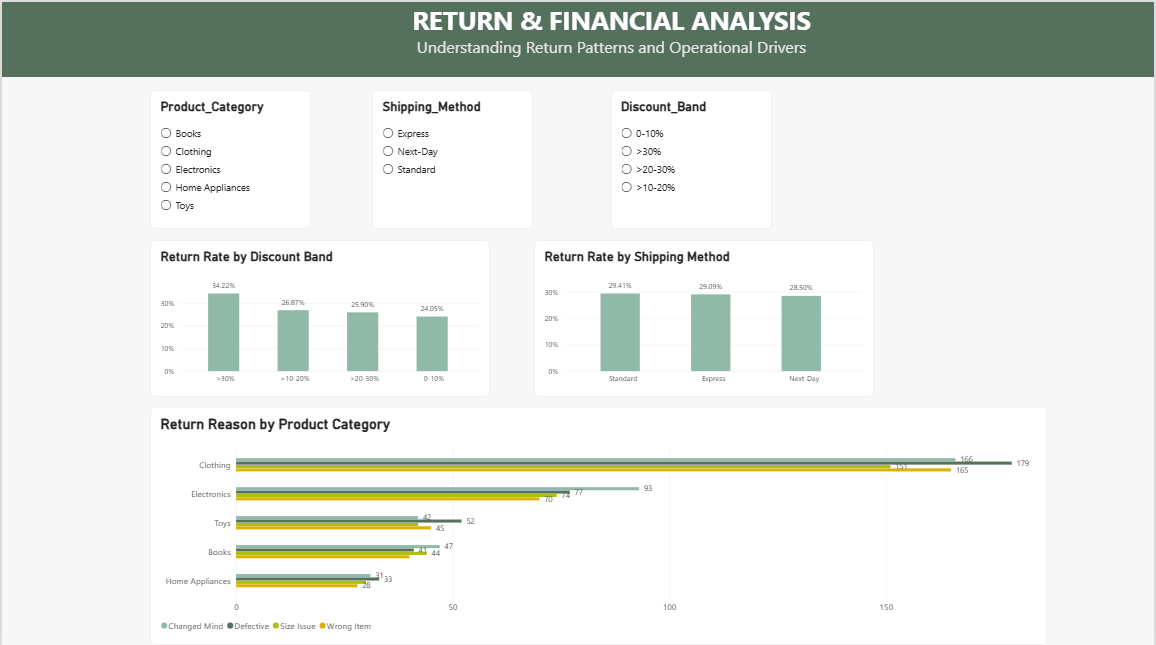

Layout of this report page (visuals, bound fields, positions):
{"tool":"powerbi","page":{"name":"Page 2","canvas":[1920,1080],"ordinal":1},"visuals":[{"type":"clusteredColumnChart","title":"Return Rate by Discount Band","fields":{"Category":["Raw.Discount_Band"],"Y":["Raw.Return Rate"]},"box":[247.5,397.5,565,260],"z":0},{"type":"clusteredColumnChart","title":"Return Rate by Shipping Method","fields":{"Category":["Raw.Shipping_Method"],"Y":["Raw.Return Rate"]},"box":[886.7,396.7,565,260],"z":1000},{"type":"clusteredBarChart","title":"Return Reason by Product Category","fields":{"Category":["Raw.Product_Category"],"Series":["Raw.Return_Reason"],"Y":["CountNonNull(Raw.Order_ID)"]},"box":[248.3,675,1493.8,396.2],"z":2000},{"type":"listSlicer","fields":{"Values":["Raw.Product_Category"]},"box":[248.3,146.7,267.5,230],"z":3000},{"type":"listSlicer","fields":{"Values":["Raw.Shipping_Method"]},"box":[618.3,146.7,267,230],"z":4000},{"type":"listSlicer","fields":{"Values":["Raw.Discount_Band"]},"box":[1015,146.7,267,230],"z":5000},{"type":"shape","box":[0,0,1920,125],"z":5001},{"type":"textbox","box":[610,0,811.4,147.1],"z":5002}]}

Visuals, with their boxes in screenshot pixels (x1, y1, x2, y2), scaled from the page's 1920x1080 canvas onto the 1156x645 screenshot:
"Return Rate by Discount Band" clusteredColumnChart: Rect(149, 237, 489, 393)
"Return Rate by Shipping Method" clusteredColumnChart: Rect(534, 237, 874, 392)
"Return Reason by Product Category" clusteredBarChart: Rect(149, 403, 1049, 640)
listSlicer - Raw.Product_Category: Rect(149, 88, 311, 225)
listSlicer - Raw.Shipping_Method: Rect(372, 88, 533, 225)
listSlicer - Raw.Discount_Band: Rect(611, 88, 772, 225)
shape: Rect(0, 0, 1155, 75)
textbox: Rect(367, 0, 856, 88)
